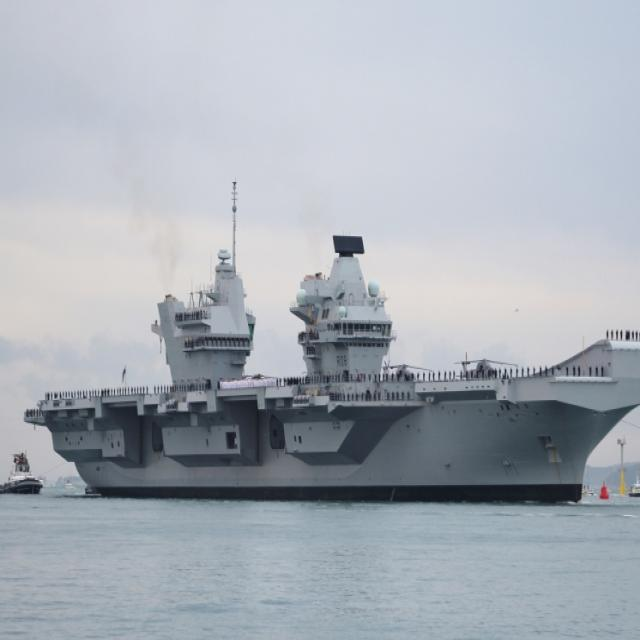Portanaves: (25, 174, 640, 502)
